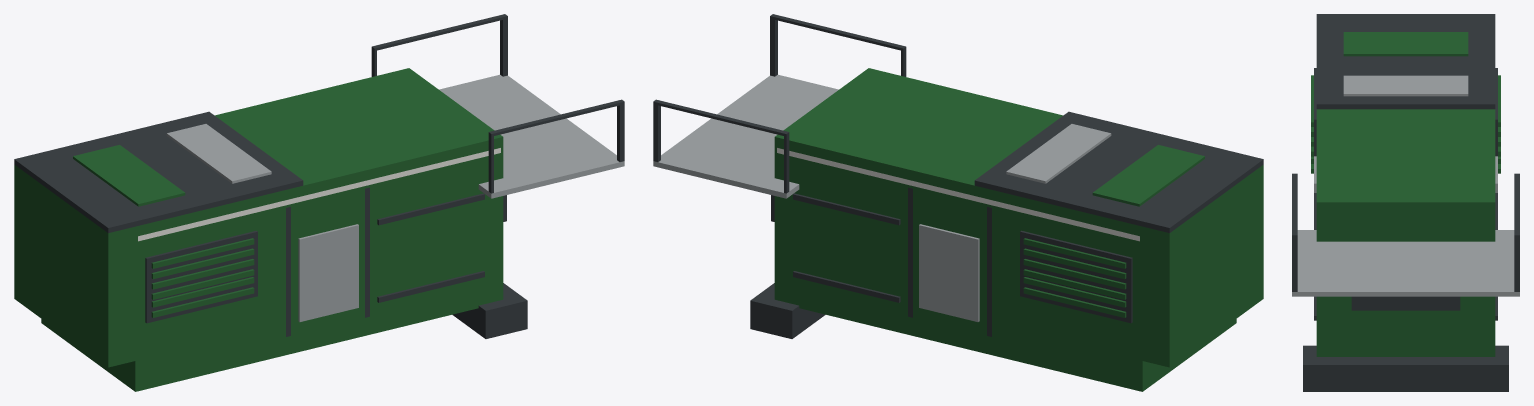
Rendered from combine_harvester_body.glb.
3 views of the same model, side by side, from view 1: azimuth 30°, elevation 25°; view 2: azimuth 150°, elevation 25°; view 3: azimuth 270°, elevation 25° (orthographic). The views are drawn at different scales.
Parts seen in each view (by area): view 1: body:compound; view 2: body:compound; view 3: body:compound.
Boxes of the visible parts, x1=… form: body:compound: x1=14, y1=14, x2=624, y2=391; body:compound: x1=653, y1=14, x2=1263, y2=391; body:compound: x1=1292, y1=14, x2=1519, y2=391.
Size of the model in its own units: 6.38 by 2.53 by 2.62.
